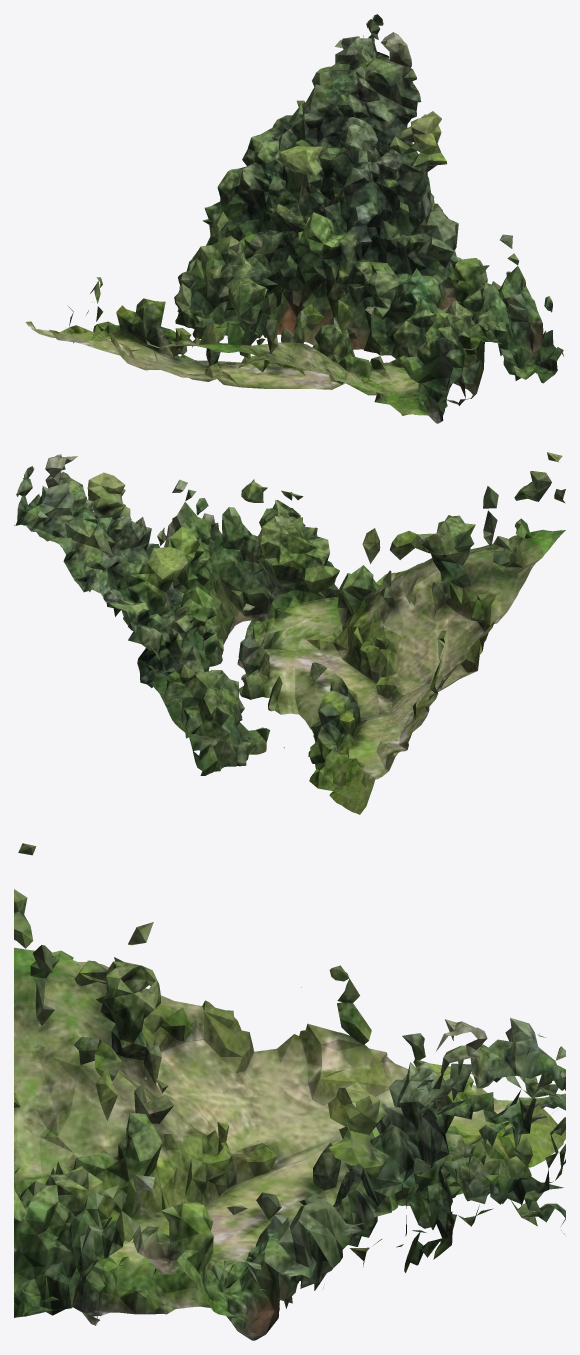
3 renders of one model, top to bottom at view 1: azimuth 30°, elevation 25°; view 2: azimuth 150°, elevation 25°; view 3: azimuth 270°, elevation 25°, orthographic. The views are drawn at different scales.
Bounding box in the file's own units: 104 × 71.95 × 104.
6 materials, 6 textured.
